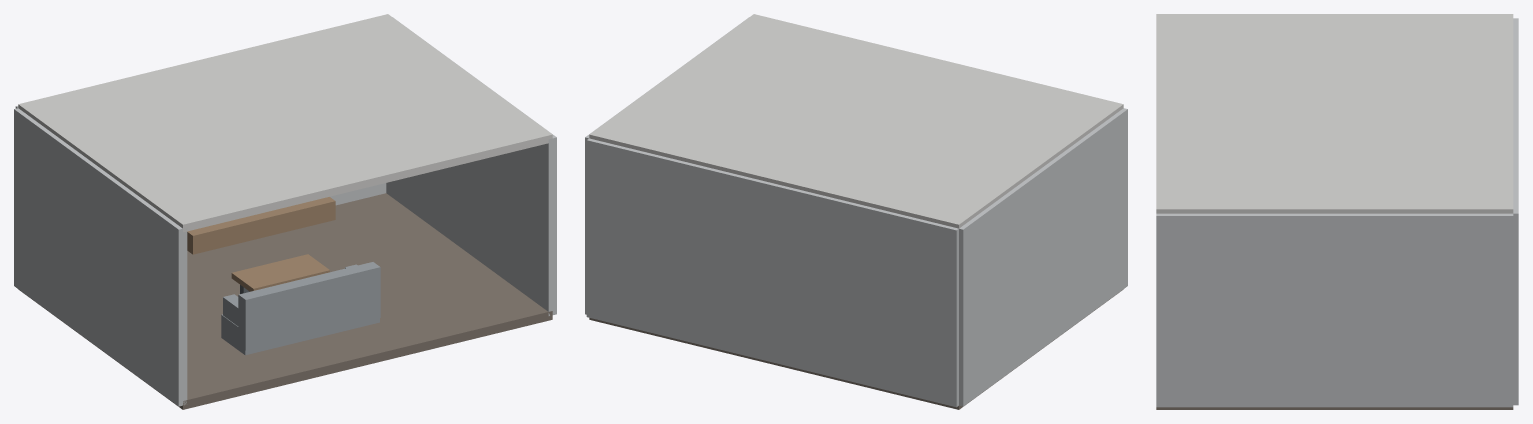
The model's file is reparos-acabamento.glb.
The picture shows the model from 3 angles, left to right: view 1: azimuth 30°, elevation 25°; view 2: azimuth 150°, elevation 25°; view 3: azimuth 270°, elevation 25°; orthographic projection. The views are drawn at different scales.
Parts seen in each view (by area): view 1: reparos-acabamento_001, reparos-acabamento_000, reparos-acabamento_003, reparos-acabamento_004, reparos-acabamento_006, reparos-acabamento_014, reparos-acabamento_009, reparos-acabamento_005, reparos-acabamento_002; view 2: reparos-acabamento_002, reparos-acabamento_001, reparos-acabamento_003, reparos-acabamento_000, reparos-acabamento_004; view 3: reparos-acabamento_001, reparos-acabamento_004, reparos-acabamento_002, reparos-acabamento_000.
Boxes of the visible parts, x1=… form: reparos-acabamento_001: x1=18, y1=14, x2=552, y2=232; reparos-acabamento_000: x1=18, y1=193, x2=552, y2=409; reparos-acabamento_003: x1=14, y1=108, x2=187, y2=406; reparos-acabamento_004: x1=386, y1=17, x2=556, y2=315; reparos-acabamento_006: x1=238, y1=262, x2=380, y2=350; reparos-acabamento_014: x1=187, y1=197, x2=335, y2=254; reparos-acabamento_009: x1=231, y1=254, x2=329, y2=291; reparos-acabamento_005: x1=221, y1=314, x2=379, y2=355; reparos-acabamento_002: x1=15, y1=106, x2=386, y2=205; reparos-acabamento_002: x1=586, y1=138, x2=958, y2=407; reparos-acabamento_001: x1=589, y1=14, x2=1123, y2=228; reparos-acabamento_003: x1=959, y1=108, x2=1127, y2=406; reparos-acabamento_000: x1=589, y1=289, x2=1123, y2=409; reparos-acabamento_004: x1=585, y1=17, x2=749, y2=314; reparos-acabamento_001: x1=1156, y1=14, x2=1513, y2=213; reparos-acabamento_004: x1=1156, y1=213, x2=1513, y2=407; reparos-acabamento_002: x1=1513, y1=18, x2=1518, y2=405; reparos-acabamento_000: x1=1156, y1=407, x2=1513, y2=409.
Bounding box in the file's own units: 7.16 × 3.35 × 5.48.
